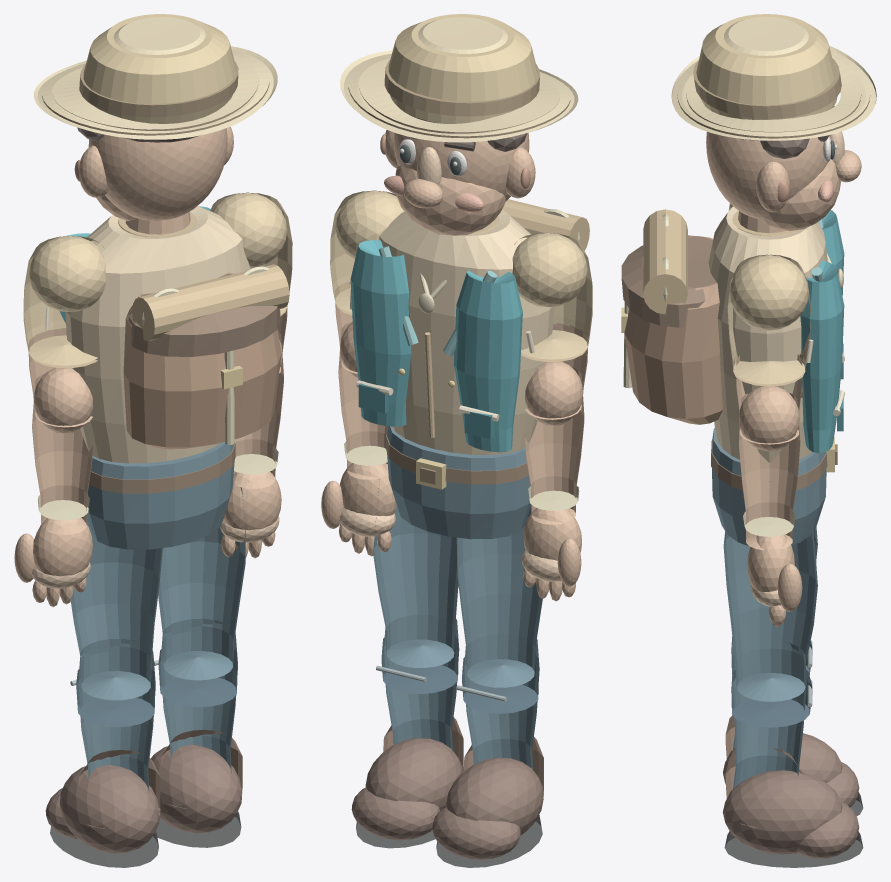
The model's file is A06_idle_weighted_pose_diagnostic.glb.
3 renders of one model, left to right at view 1: azimuth 30°, elevation 25°; view 2: azimuth 150°, elevation 25°; view 3: azimuth 270°, elevation 25°, orthographic. The views are drawn at different scales.
Visible parts, largest first — view 1: world; view 2: world; view 3: world.
Part boxes in pixels (x1,y1,x2,y2): world: (14,14,292,867); world: (321,14,592,867); world: (621,14,876,867).
Size of the model in its own units: 0.6338 by 1.87 by 0.5421.
